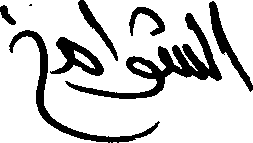ا: (221, 22, 252, 91), (99, 22, 118, 63)
خ: (0, 1, 49, 124)
ش: (130, 6, 204, 76)
ل: (194, 0, 220, 81)
م: (53, 36, 100, 78)
و: (126, 53, 161, 100)
